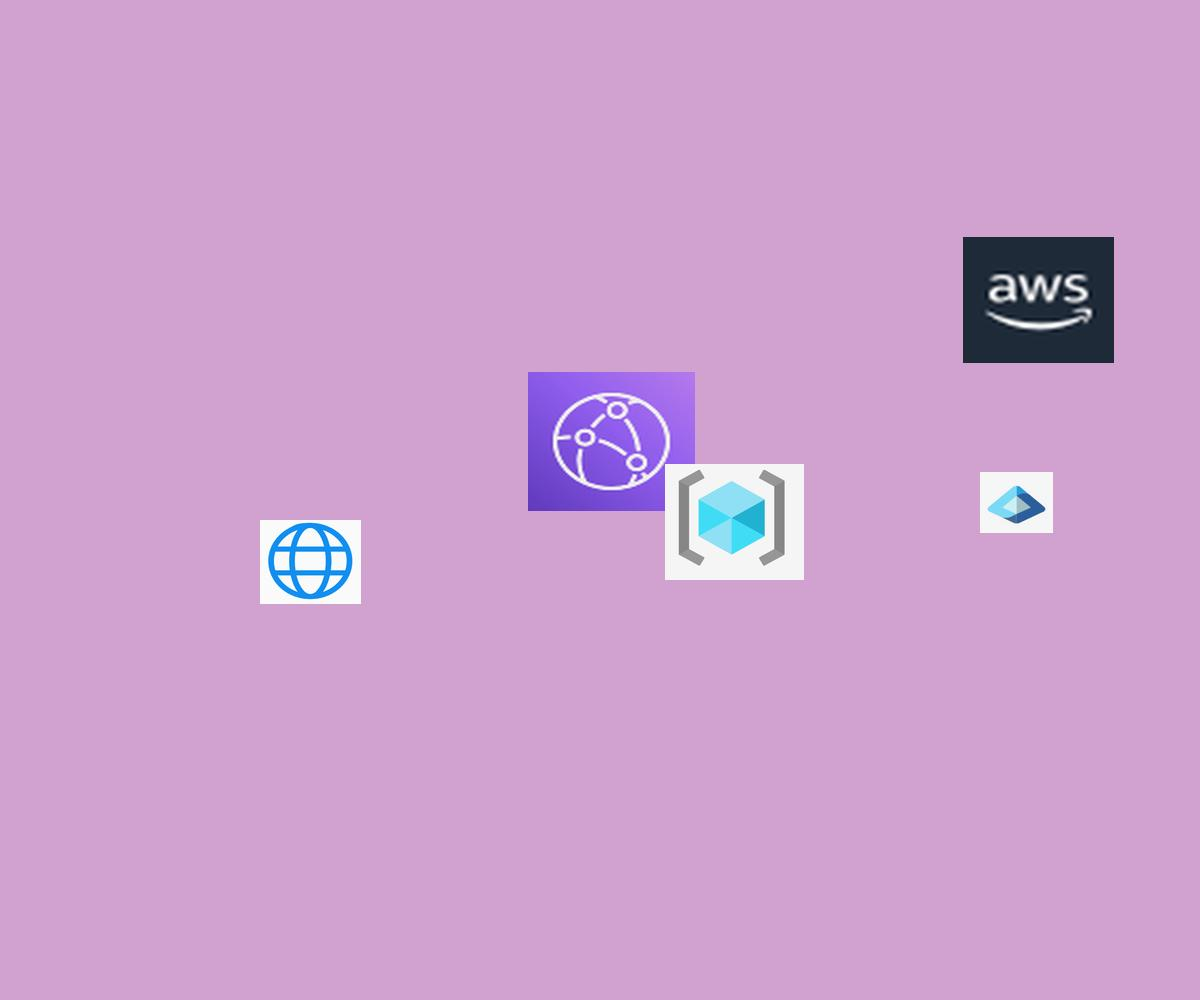AWS-Cloud-logo: (963, 237, 1114, 363)
AWS-CloudFront: (528, 372, 695, 511)
Azure_http: (260, 520, 361, 604)
Azure_microsoft_entra: (980, 472, 1053, 533)
Azure_resource_group: (665, 464, 804, 580)
